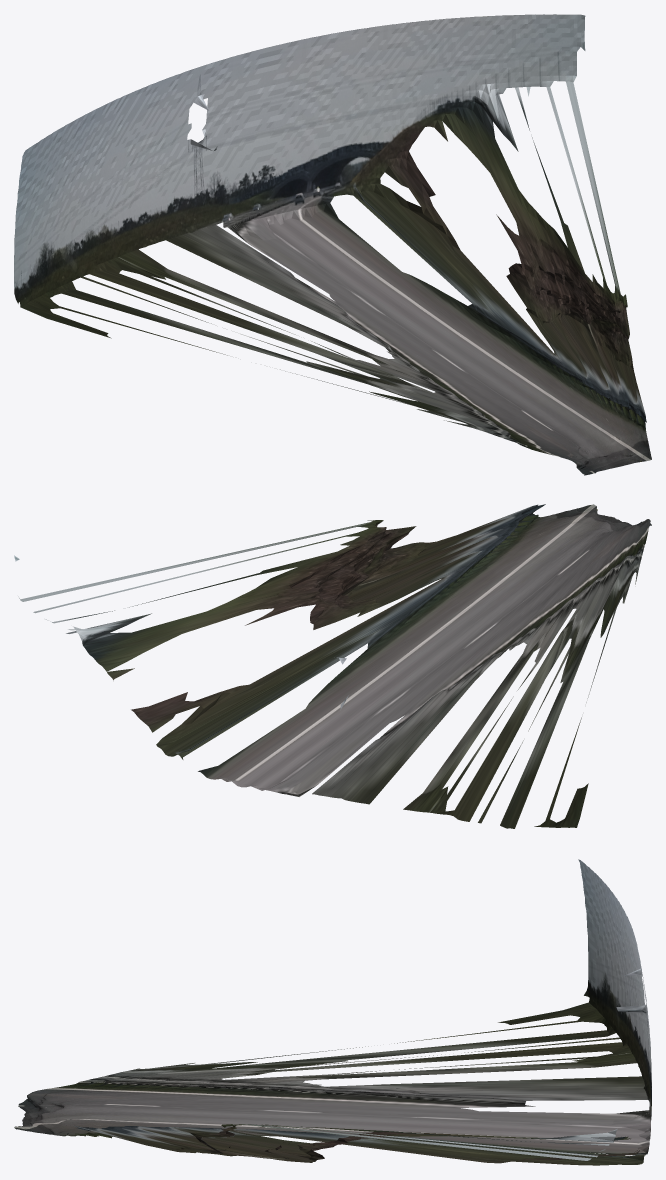
3 views of the same model, one above another, from view 1: azimuth 30°, elevation 25°; view 2: azimuth 150°, elevation 25°; view 3: azimuth 270°, elevation 25° (orthographic). The views are drawn at different scales.
Visible parts, largest first — view 1: defaultobject; view 2: defaultobject; view 3: defaultobject.
Part boxes in pixels (bbox=[...]): defaultobject: bbox=[14, 14, 651, 475]; defaultobject: bbox=[14, 504, 651, 828]; defaultobject: bbox=[14, 859, 651, 1165].
Bounding box in the file's own units: 40.98 × 12.46 × 44.87.
Materials: 1 (1 with a texture image).
